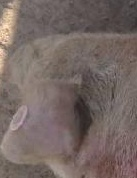text: (4, 100, 34, 139)
